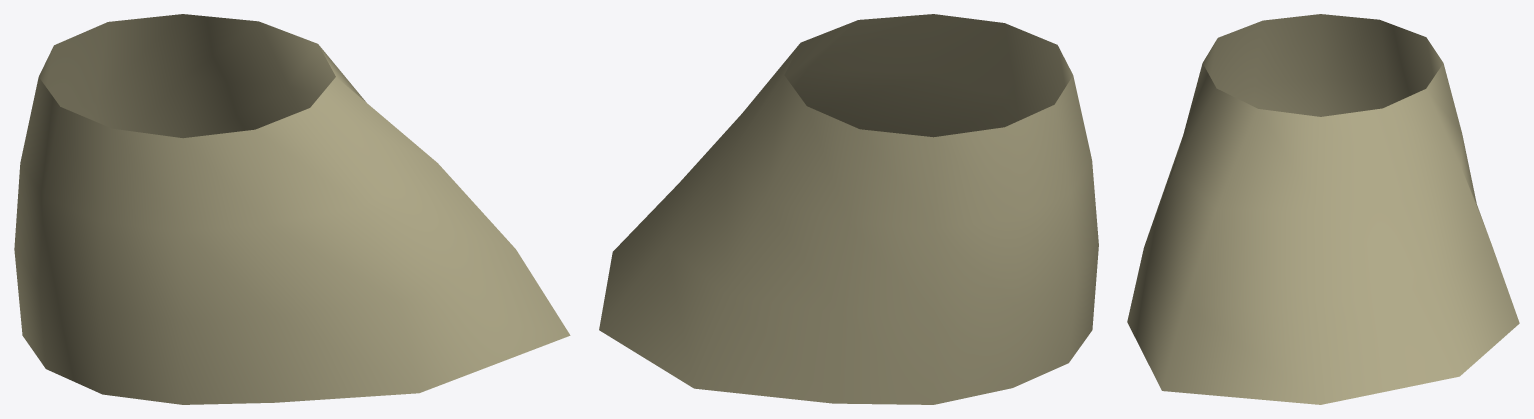
The model's file is tin_armor_pauldron.L.glb.
The picture shows the model from 3 angles, left to right: view 1: azimuth 30°, elevation 25°; view 2: azimuth 150°, elevation 25°; view 3: azimuth 270°, elevation 25°; orthographic projection. The views are drawn at different scales.
Parts seen in each view (by area): view 1: tin_armor_pauldron.L; view 2: tin_armor_pauldron.L; view 3: tin_armor_pauldron.L.
Part boxes in pixels (x1,y1,x2,y2): tin_armor_pauldron.L: [14, 14, 570, 404]; tin_armor_pauldron.L: [599, 14, 1098, 404]; tin_armor_pauldron.L: [1127, 14, 1519, 404].
Size of the model in its own units: 0.2832 by 0.149 by 0.2502.
